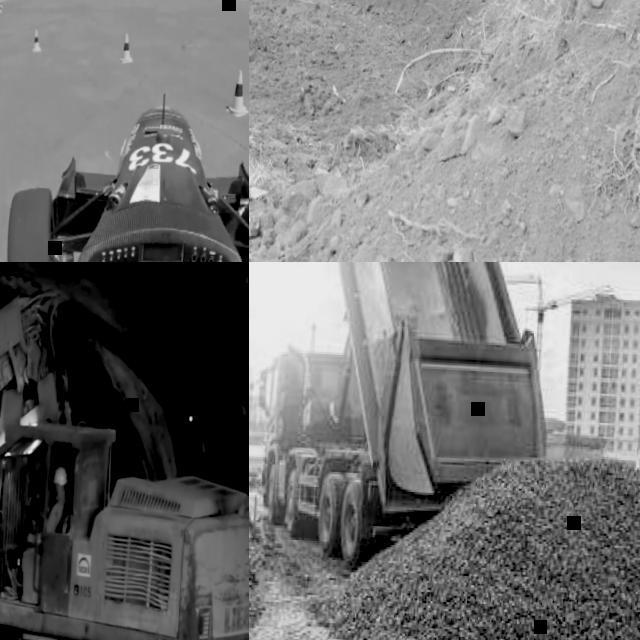helmet: (54, 468, 68, 487)
vest: (48, 493, 66, 533)
